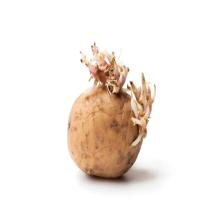Sprouted potato: (66, 38, 154, 184)
